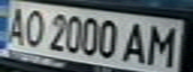0: (96, 16, 124, 61), (81, 15, 103, 58), (63, 11, 84, 55)
2: (42, 10, 69, 53)
A: (121, 19, 151, 65), (0, 3, 30, 46)
M: (142, 20, 187, 68)
O: (18, 7, 48, 48)
